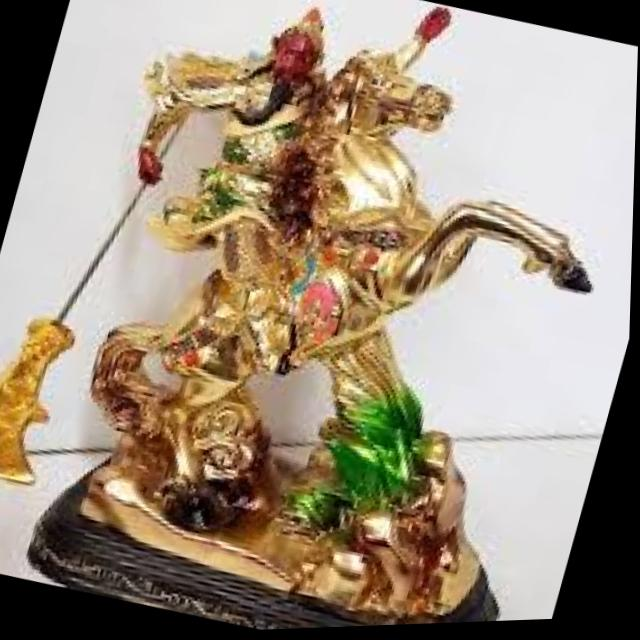Guan Yu: (162, 0, 373, 261)
